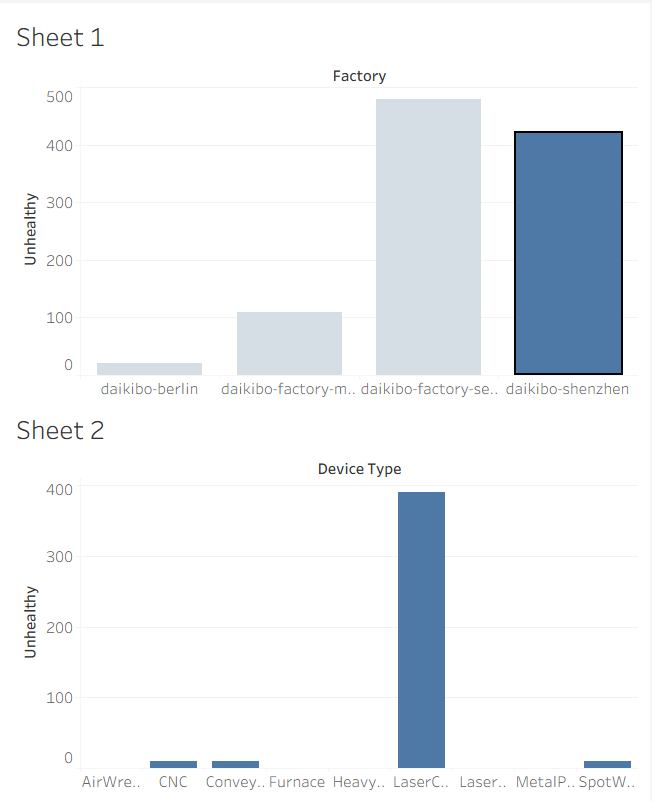

The page's visual inventory and layout, read from the dashboard file:
{"tool":"tableau","page":{"name":"Dashboard 1","canvas":[1000,800],"ordinal":0},"visuals":[{"type":"worksheet","title":"Sheet 1","mark":"Automatic","rows":["Calculation_672162283791736836"],"cols":["factory"],"box":[8,8,984,392]},{"type":"worksheet","title":"Sheet 2","mark":"Automatic","rows":["Calculation_672162283791736836"],"cols":["deviceType"],"box":[8,400,984,392]}]}

Visuals, with their boxes in screenshot pixels (x1, y1, x2, y2):
"Sheet 1" worksheet: l=11, t=130, r=622, b=374
"Sheet 2" worksheet: l=11, t=374, r=622, b=617
